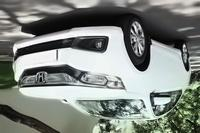Car hood: (18, 85, 139, 101)
Driver-s door - -F-R-: (147, 32, 178, 120)
Fender - -F-R-: (117, 28, 157, 103)
Front bumper: (9, 25, 127, 80)
Headlight - -R-: (79, 71, 126, 90)
Side mirror - -R-: (149, 94, 172, 106)
